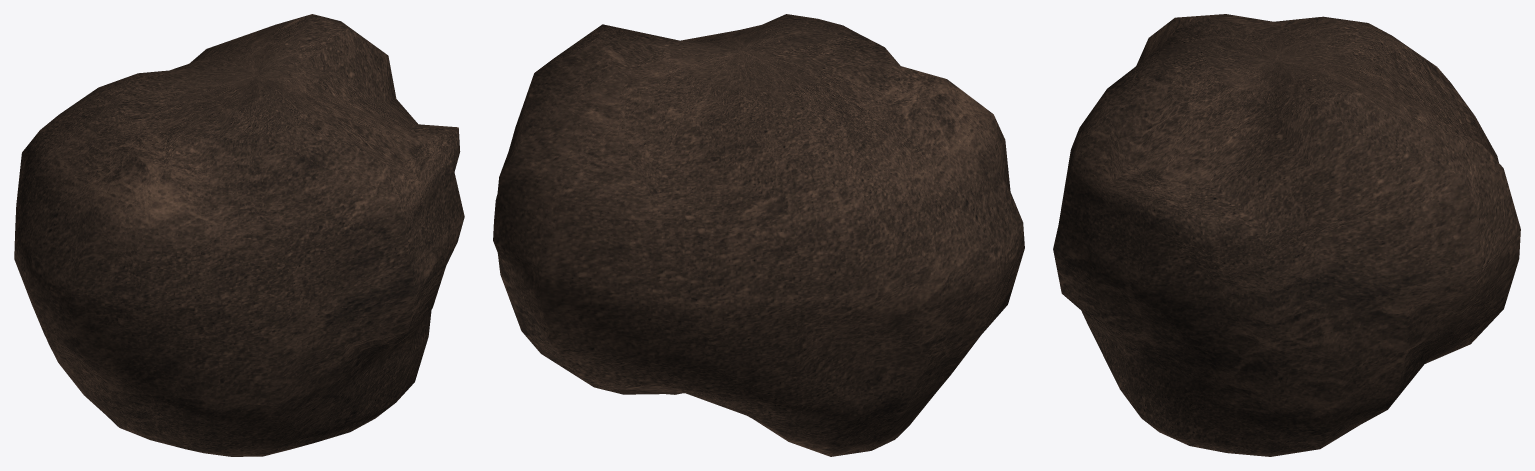
Rendered from Asteroid2.obj.
The picture shows the model from 3 angles, left to right: view 1: azimuth 30°, elevation 25°; view 2: azimuth 150°, elevation 25°; view 3: azimuth 270°, elevation 25°; orthographic projection. The views are drawn at different scales.
Parts seen in each view (by area): view 1: pSphere1; view 2: pSphere1; view 3: pSphere1.
Boxes of the visible parts, bbox=[...] form: pSphere1: bbox=[14, 14, 464, 456]; pSphere1: bbox=[493, 14, 1024, 456]; pSphere1: bbox=[1053, 14, 1520, 456].
Bounding box in the file's own units: 3.69 × 3.03 × 3.45.
1 material, 1 textured.
